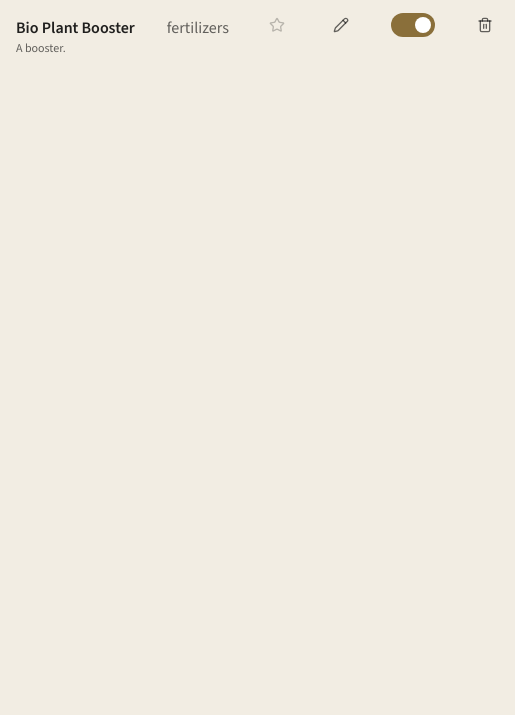
it: CustomProductRow — volume tier editor › renders the product's existing tiers as pesos + minQty in the edit form
What coordinates should you click on to do the following:
click the button named "edit"
I would click on:
 (341, 25)
Its box is [325,9,357,41].
(page scrolled)
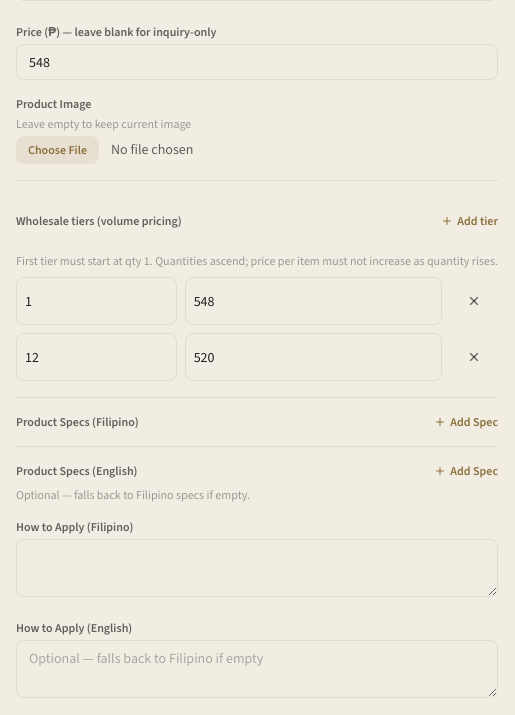
Expected: the number field named "tier 2 minimum quantity" holds "12", [16,333,177,381]
Expected: the number field named "tier 1 price each in pesos" holds "548", [185,277,442,325]
Expected: the number field named "tier 2 price each in pesos" holds "520", [185,333,442,381]
